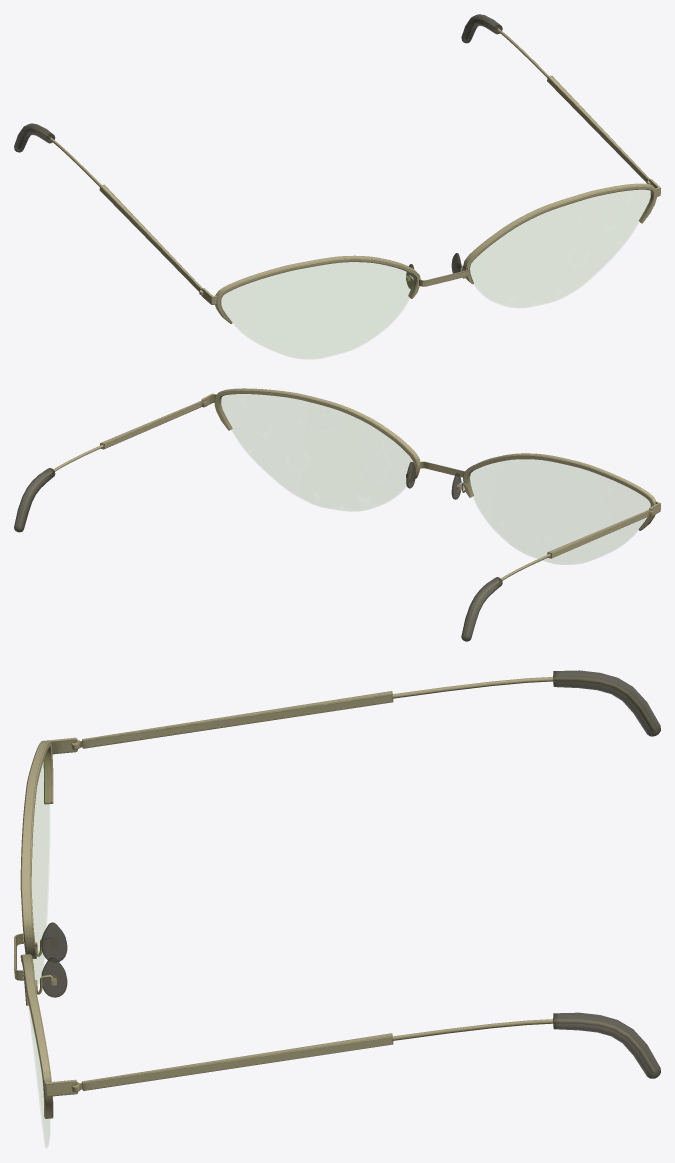
The picture shows the model from 3 angles, top to bottom: view 1: azimuth 30°, elevation 25°; view 2: azimuth 150°, elevation 25°; view 3: azimuth 270°, elevation 25°; orthographic projection. The views are drawn at different scales.
Parts seen in each view (by area): view 1: Front, R_Temple, L_Temple; view 2: Front, R_Temple, L_Temple; view 3: Front, L_Temple, R_Temple.
Boxes of the visible parts, x1=… form: Front: x1=201, y1=179, x2=660, y2=358; R_Temple: x1=14, y1=123, x2=203, y2=295; L_Temple: x1=461, y1=14, x2=650, y2=184; Front: x1=201, y1=388, x2=660, y2=564; R_Temple: x1=461, y1=509, x2=654, y2=641; L_Temple: x1=14, y1=400, x2=206, y2=532; Front: x1=14, y1=737, x2=77, y2=1147; L_Temple: x1=71, y1=1012, x2=660, y2=1091; R_Temple: x1=71, y1=670, x2=660, y2=749.
Size of the model in its own units: 18.63 by 5.14 by 14.57.
Materials: 1 (1 with a texture image).
